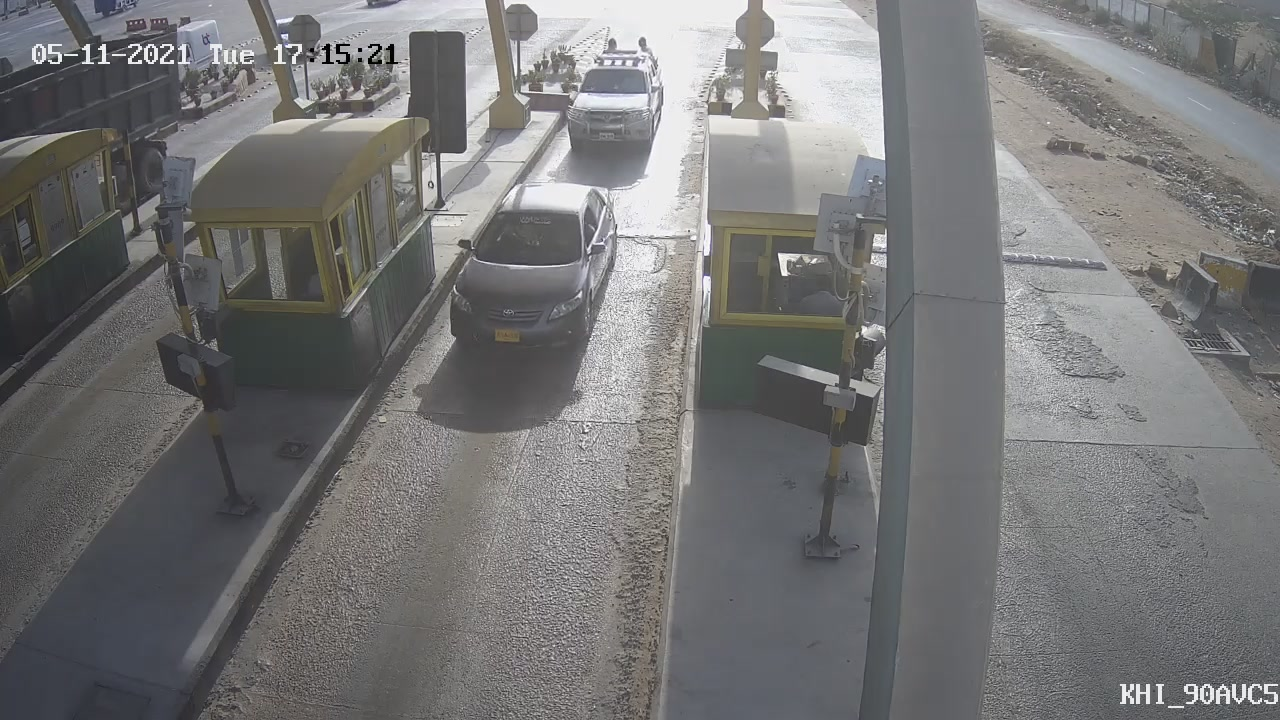F1: (431, 161, 635, 377), (550, 26, 678, 170)
